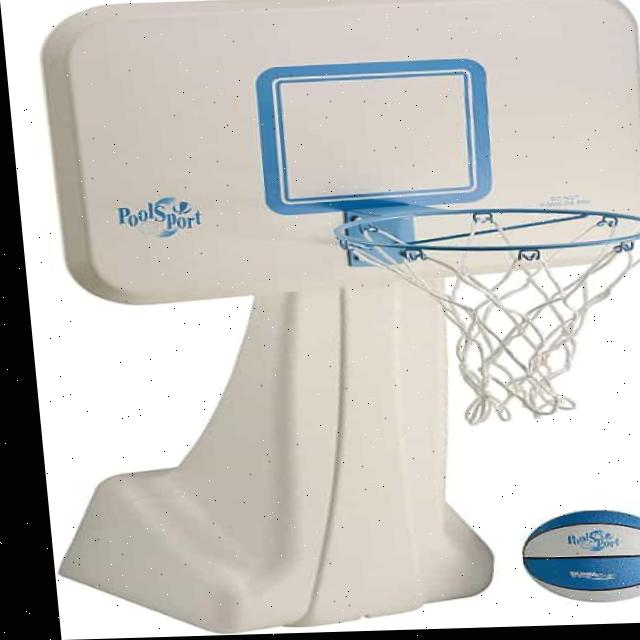basketball: (518, 507, 640, 603)
hoop: (333, 202, 640, 429)
